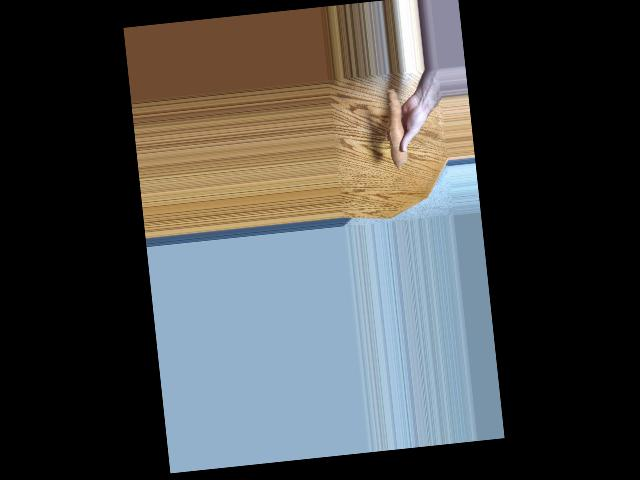sweet_potato: (381, 87, 411, 164)
